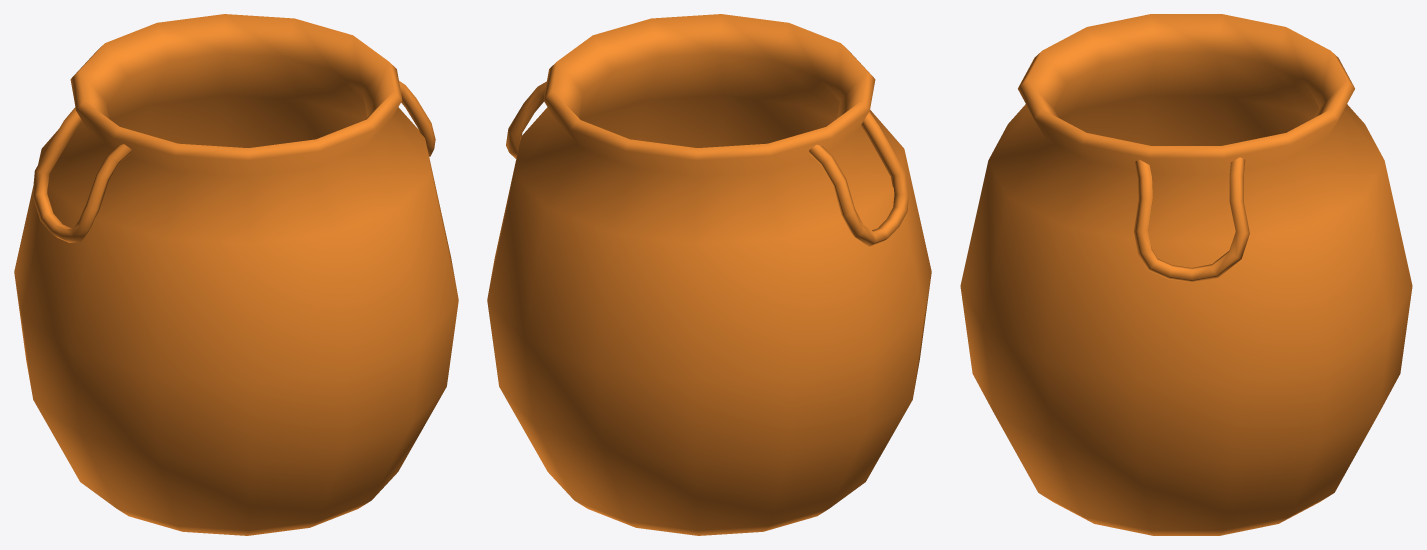
File: SM_pottery_04.fbx
3 views of the same model, side by side, from view 1: azimuth 30°, elevation 25°; view 2: azimuth 150°, elevation 25°; view 3: azimuth 270°, elevation 25° (orthographic).
Parts seen in each view (by area): view 1: Cylinder072; view 2: Cylinder072; view 3: Cylinder072.
Part boxes in pixels (left/top/right/bottom): Cylinder072: left=14, top=14, right=458, bottom=535; Cylinder072: left=487, top=14, right=931, bottom=535; Cylinder072: left=960, top=14, right=1412, bottom=535.
Bounding box in the file's own units: 16.71 × 16.52 × 17.14.
